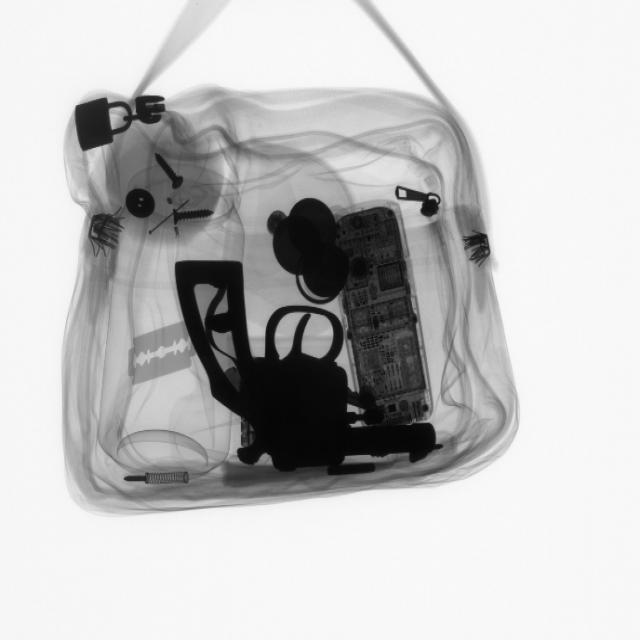BLADE: (126, 315, 198, 386)
GUN: (180, 254, 442, 473)
SCREW: (151, 143, 192, 200), (162, 198, 225, 234)
